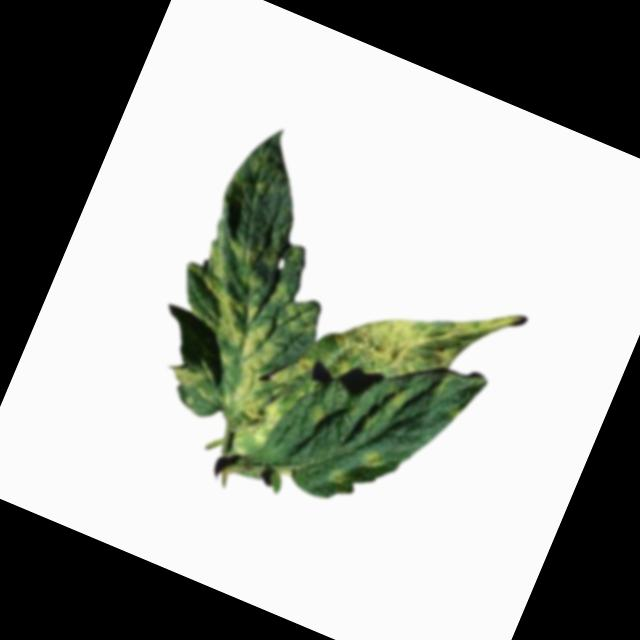Leaf_Mold: (127, 223, 348, 467), (324, 253, 540, 427), (164, 357, 209, 395), (301, 398, 331, 431), (358, 443, 392, 472), (324, 466, 347, 487)
